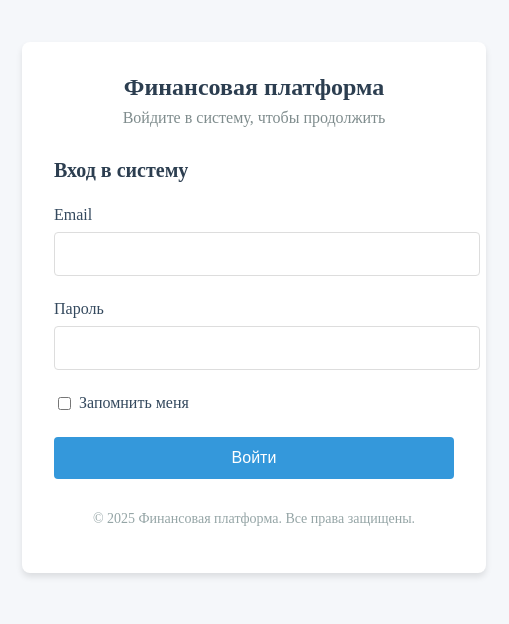
Scenario: LoginPage - интеграционные тесты › должен отображать ошибки валидации
Note: Отправляем пустую форму внутри act
Click the button "Войти" at (254, 458), box [54,436,454,478]
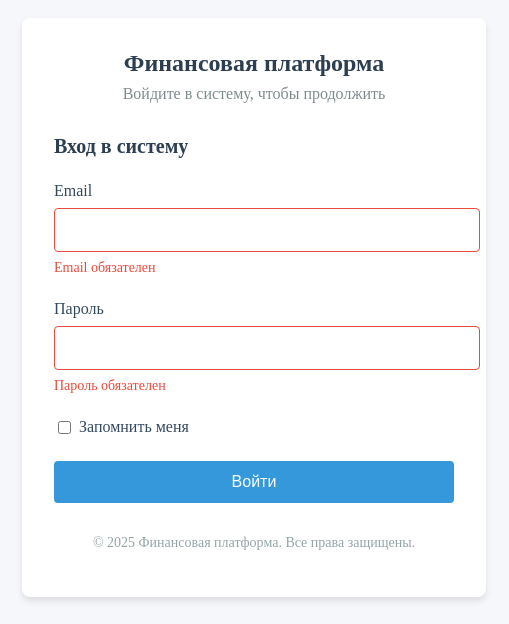
Result: the text "Email обязателен" is shown at [54,260,156,274]
Result: the text "Пароль обязателен" is shown at [54,378,166,392]
